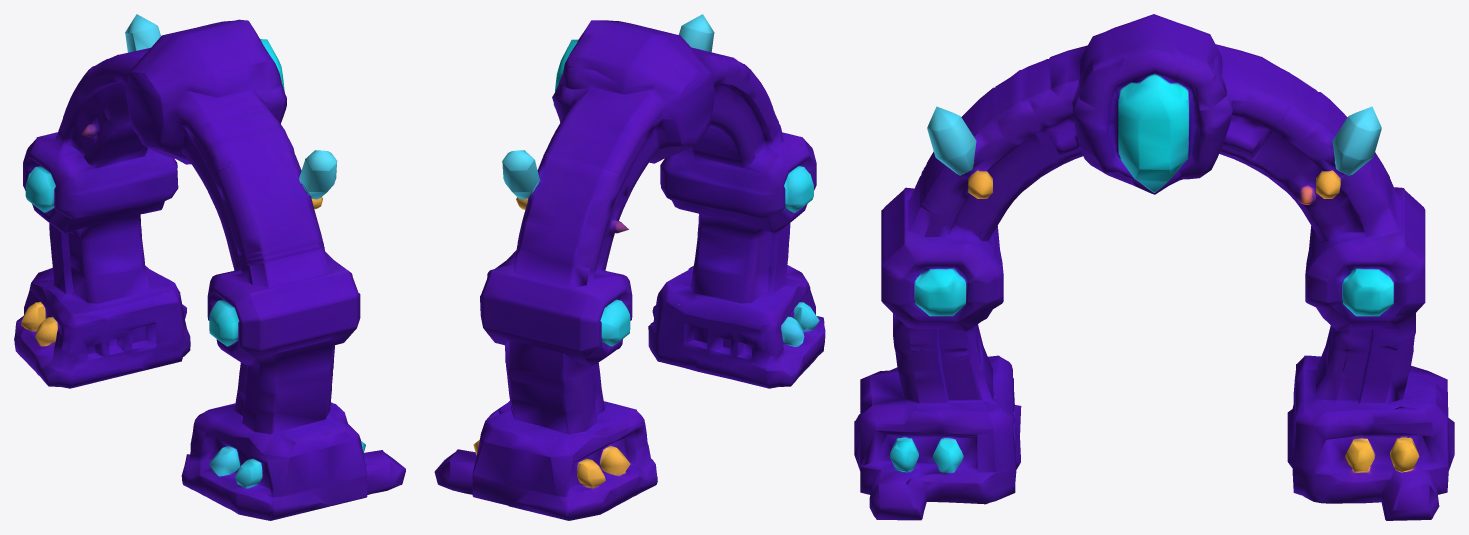
File: horizon-gate.glb
3 renders of one model, left to right at view 1: azimuth 30°, elevation 25°; view 2: azimuth 150°, elevation 25°; view 3: azimuth 270°, elevation 25°, orthographic. The views are drawn at different scales.
Visible parts, largest first — view 1: tripo_node_4163db73-b4a3-45ab-b0b5-3b1999065f31; view 2: tripo_node_4163db73-b4a3-45ab-b0b5-3b1999065f31; view 3: tripo_node_4163db73-b4a3-45ab-b0b5-3b1999065f31.
Boxes of the visible parts, box(x1,y1,x2,y2) form: tripo_node_4163db73-b4a3-45ab-b0b5-3b1999065f31: box(14, 14, 405, 520); tripo_node_4163db73-b4a3-45ab-b0b5-3b1999065f31: box(434, 14, 825, 520); tripo_node_4163db73-b4a3-45ab-b0b5-3b1999065f31: box(854, 14, 1454, 520).
Bounding box in the file's own units: 0.3973 × 0.8297 × 1.
1 material, 1 textured.
